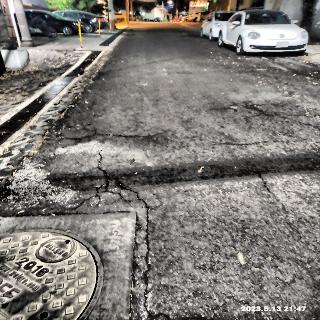crack: (71, 147, 153, 320)
